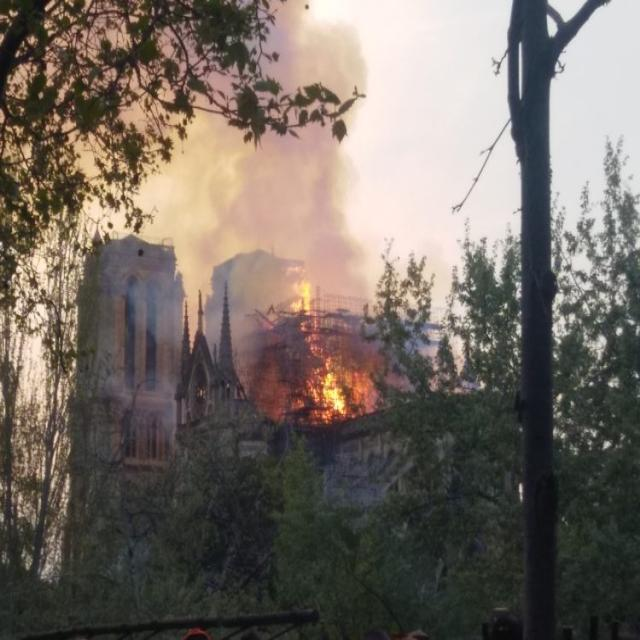Fire: (268, 276, 360, 430)
Smoke: (39, 1, 374, 272), (48, 272, 264, 464)
